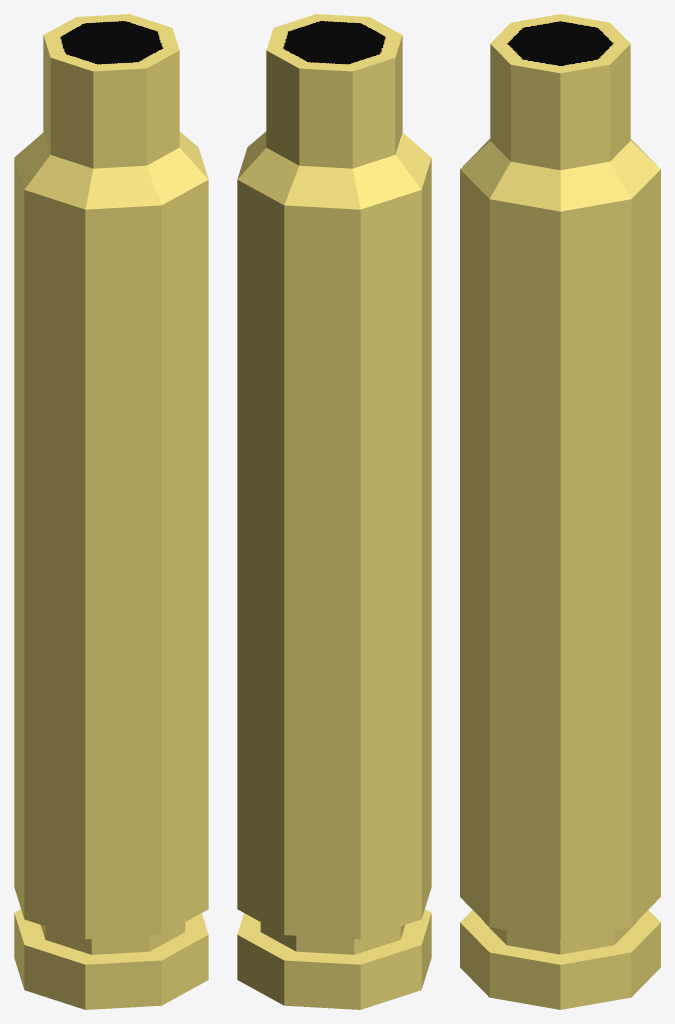
The model's file is RifleBulletCase.obj.
3 renders of one model, left to right at view 1: azimuth 30°, elevation 25°; view 2: azimuth 150°, elevation 25°; view 3: azimuth 270°, elevation 25°, orthographic.
Visible parts, largest first — view 1: BulletCase_Rifle; view 2: BulletCase_Rifle; view 3: BulletCase_Rifle.
Part boxes in pixels (x1=…): BulletCase_Rifle: x1=14, y1=14, x2=208, y2=1009; BulletCase_Rifle: x1=237, y1=14, x2=431, y2=1009; BulletCase_Rifle: x1=460, y1=14, x2=660, y2=1009.
Bounding box in the file's own units: 0.15 × 0.762 × 0.15.
